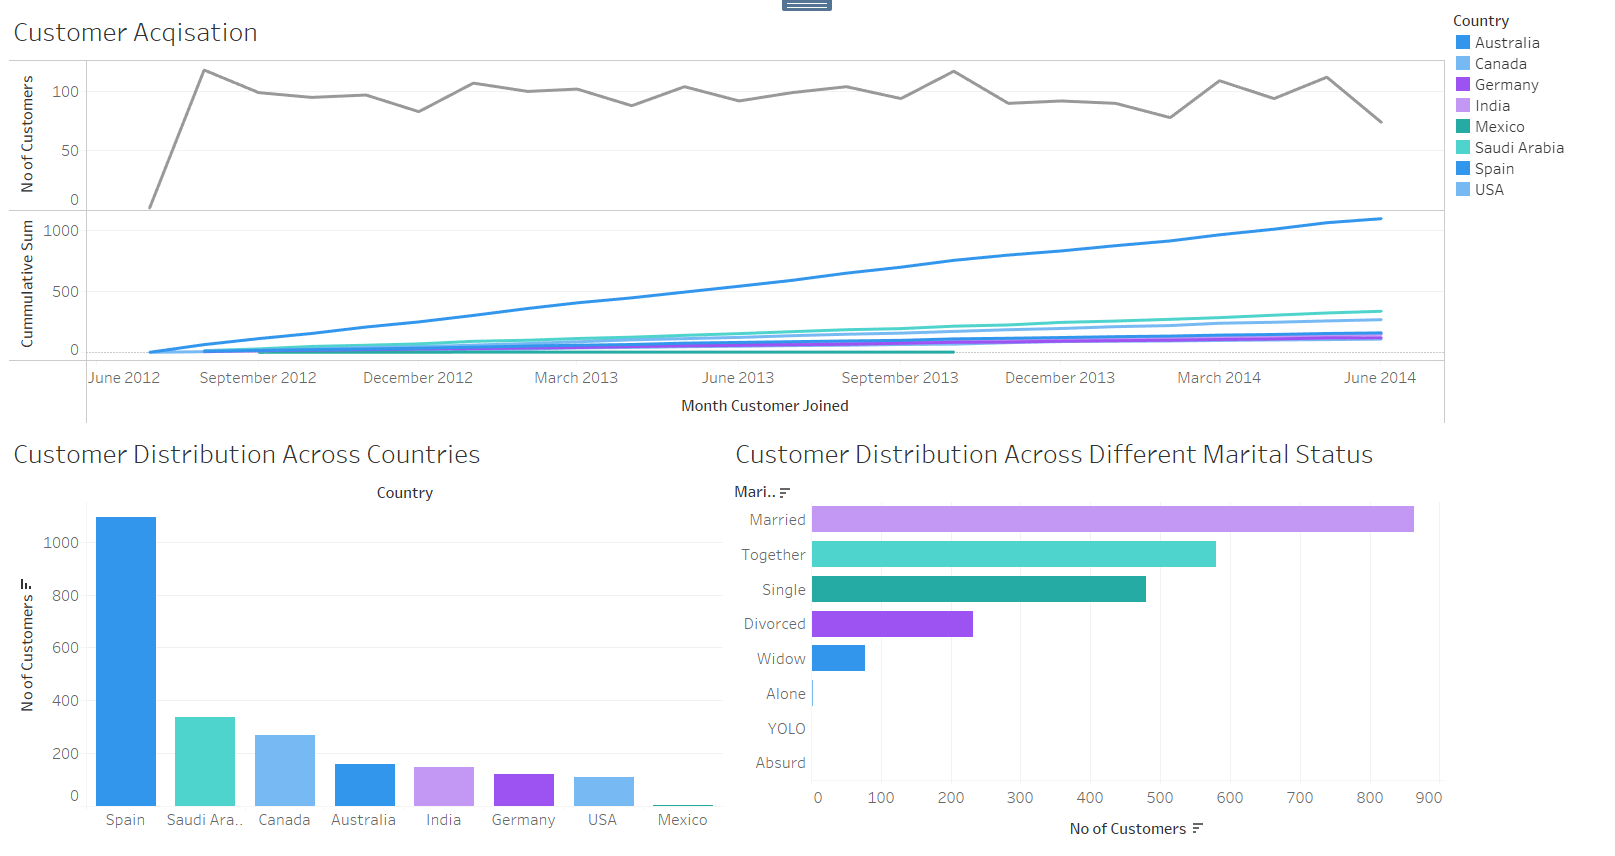

What the dashboard file says about the page in this screenshot:
{"tool":"tableau","page":{"name":"Customer DashBoard","canvas":[1000,1000],"units":"permille","ordinal":1},"visuals":[{"type":"worksheet","title":"Customer Acqisation ","mark":"Automatic","rows":["ID","ID"],"cols":["Dt_Customer"],"box":[4.9,9.3,891.4,490.7]},{"type":"legend","title":"Customer Acqisation ","param":"[federated.003a4g117bcdep19m6nk21j4v3hl].[none:Country:nk]","box":[896.3,9.3,98.8,230.2]},{"type":"worksheet","title":"Customer Distribution Across Countries","mark":"Automatic","rows":["ID"],"cols":["Country"],"box":[4.9,500,445.7,490.7]},{"type":"worksheet","title":"Customer Distribution Across Different Marital Status","mark":"Automatic","rows":["Marital_Status"],"cols":["ID"],"box":[450.6,500,445.7,490.7]}]}

Visuals, with their boxes on the dashboard's canvas, which has no fixed pixel size, in thousandths of its width and height (x1, y1, x2, y2). These are canvas units, not pixel positions in the 1615x856 screenshot, which may show the page scaled, cropped or inside an application window:
"Customer Acqisation " worksheet: l=5, t=9, r=896, b=500
"Customer Acqisation " legend: l=896, t=9, r=995, b=240
"Customer Distribution Across Countries" worksheet: l=5, t=500, r=451, b=991
"Customer Distribution Across Different Marital Status" worksheet: l=451, t=500, r=896, b=991
